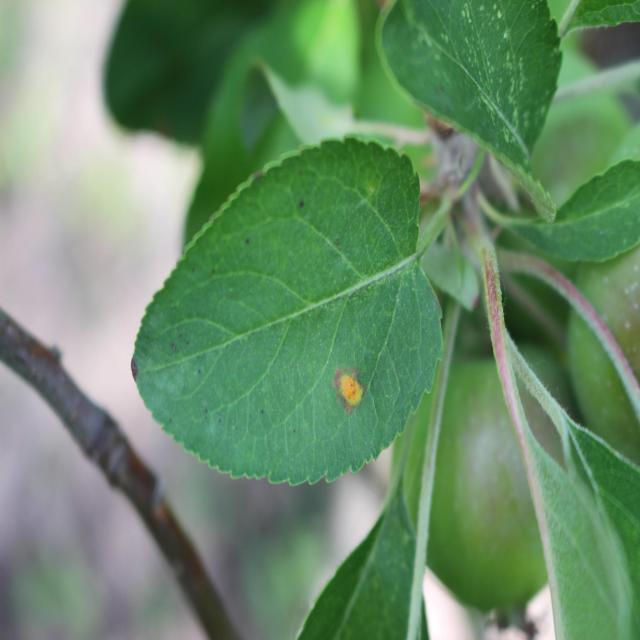Rust: (322, 363, 374, 426)
